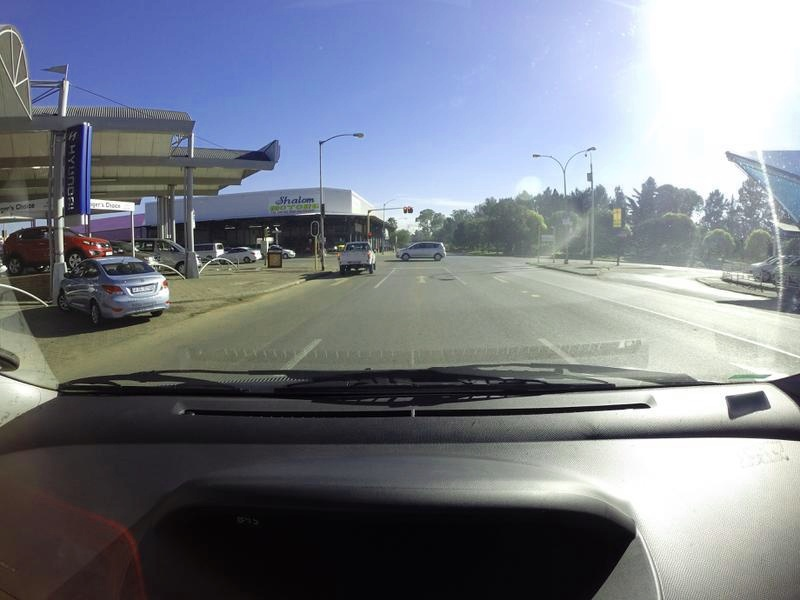pothole: (437, 275, 460, 282)
